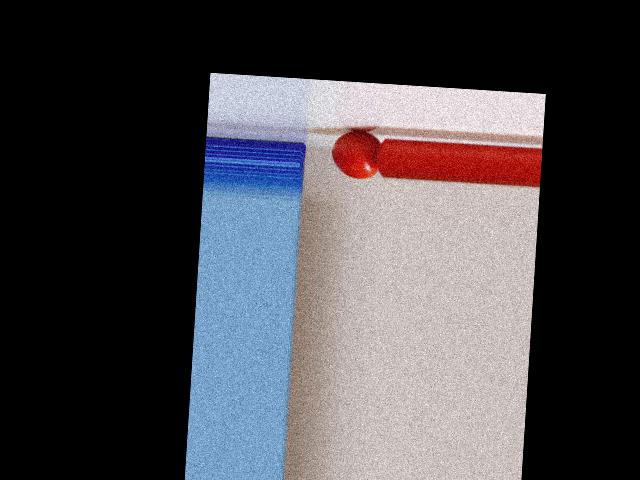tomato: (330, 129, 380, 179)
